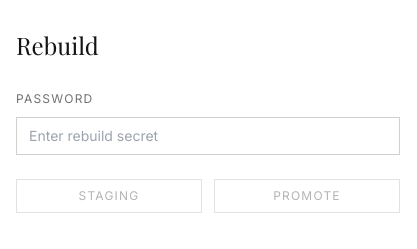
Test case: RebuildPage › shows error message on network failure
In the password field labelled "Password": (208, 136) [16,117,400,155], type "mysecret"
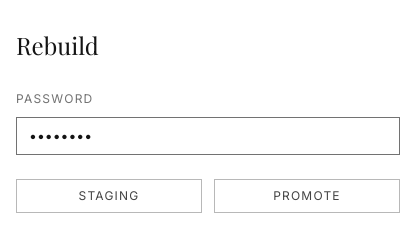
Click the button "Staging": click(109, 196) [16,179,202,213]
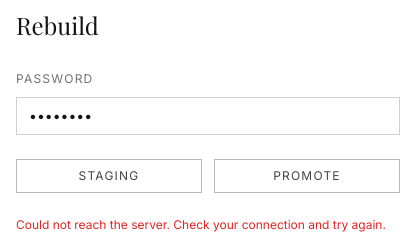
Check: the text "Could not reach the server" is shown, box [16,217,386,232]
